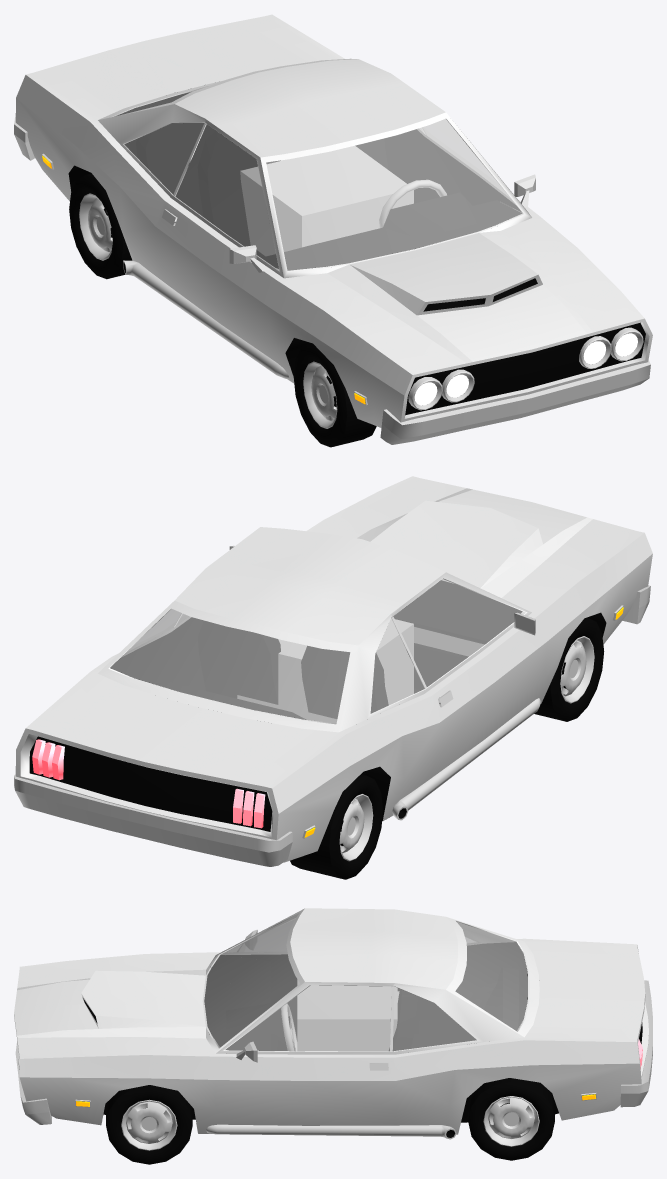
File: car_white.glb
3 views of the same model, one above another, from view 1: azimuth 30°, elevation 25°; view 2: azimuth 150°, elevation 25°; view 3: azimuth 270°, elevation 25° (orthographic). The views are drawn at different scales.
Visible parts, largest first — view 1: Object_4, Cube, Object_6, Object_13, Object_8; view 2: Object_4, Cube, Object_6, Object_13, Object_7; view 3: Object_4, Cube, Object_6, Object_13.
Part boxes in pixels (x1,y1,x2,y2): Object_4: [15, 14, 652, 427]; Cube: [68, 92, 645, 447]; Object_6: [117, 86, 522, 270]; Object_13: [14, 117, 650, 444]; Object_8: [414, 333, 637, 405]; Object_4: [15, 476, 652, 862]; Cube: [29, 580, 606, 879]; Object_6: [110, 579, 525, 723]; Object_13: [14, 545, 650, 866]; Object_7: [32, 739, 265, 828]; Object_4: [14, 908, 648, 1134]; Cube: [83, 942, 642, 1164]; Object_6: [204, 914, 527, 1051]; Object_13: [15, 929, 652, 1150].
Size of the model in its own units: 5.46 by 3.6 by 12.16.
Materials: 7 (7 with a texture image).
